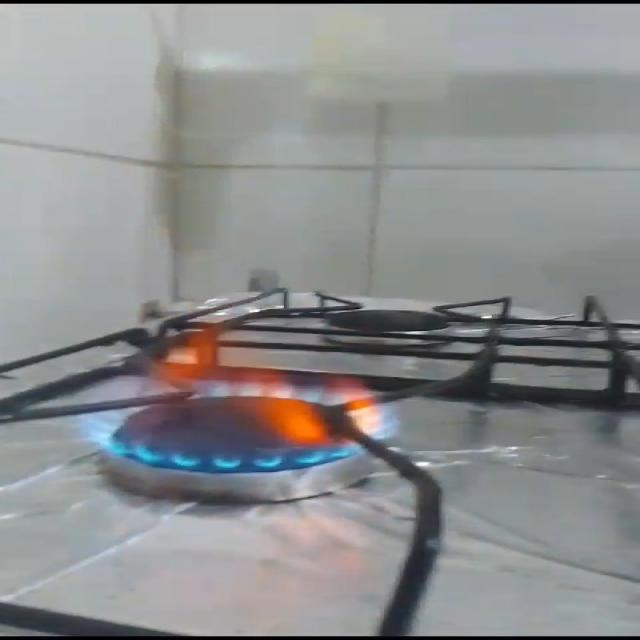fogo-ypXI: (68, 307, 411, 474)
